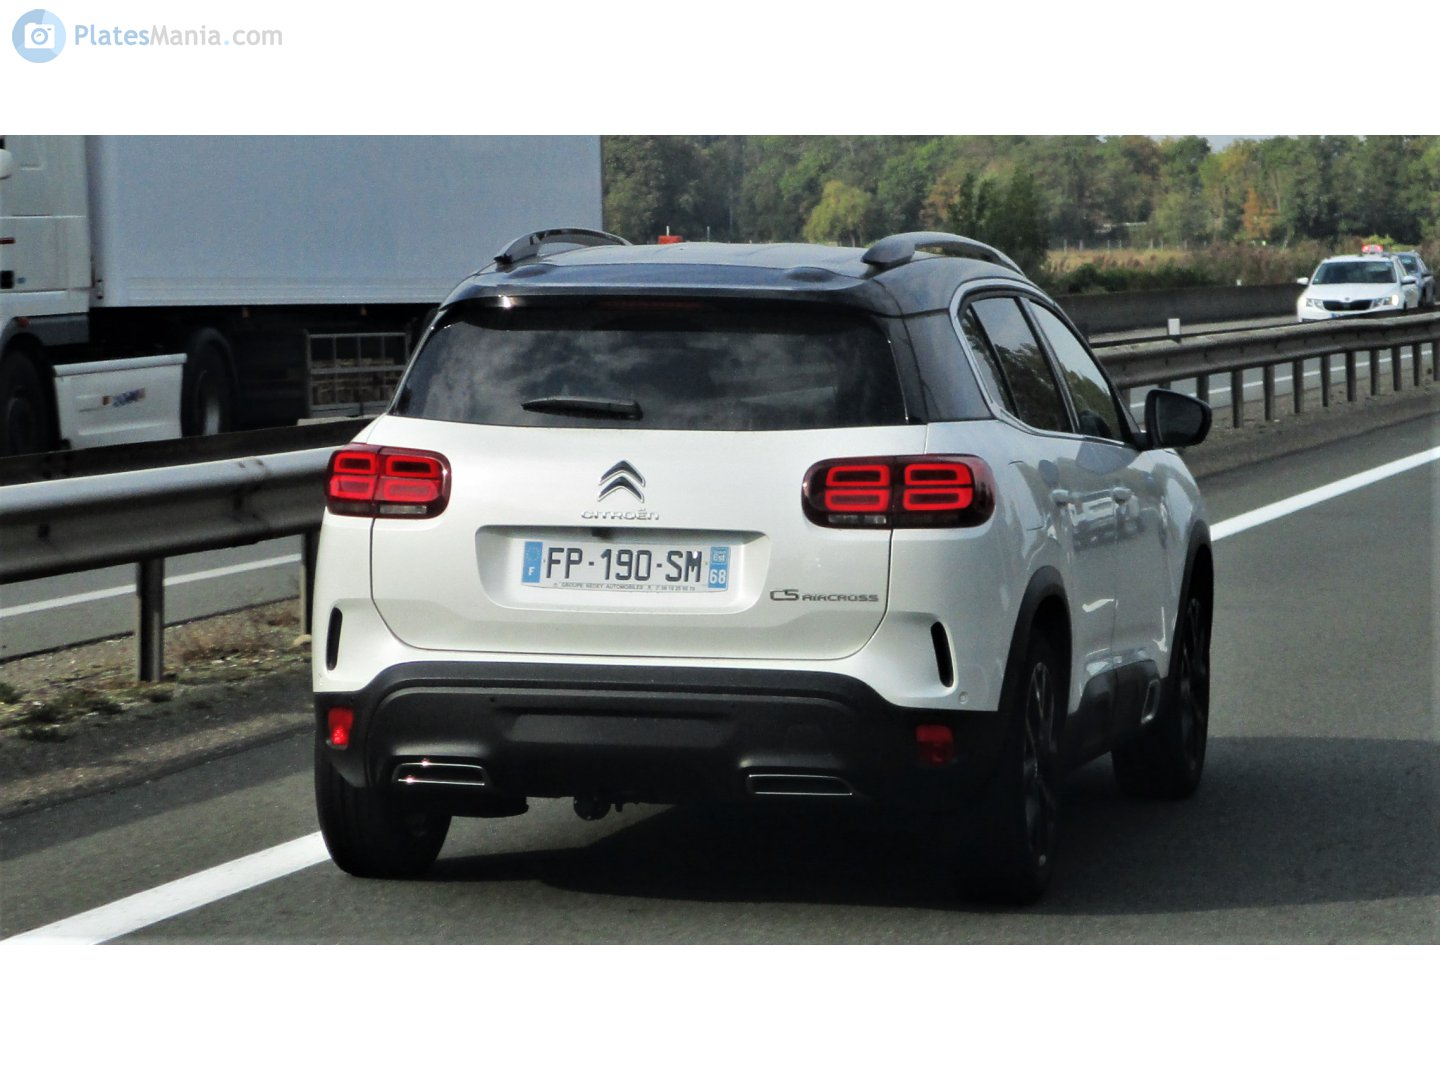licence plate: (513, 537, 745, 597)
